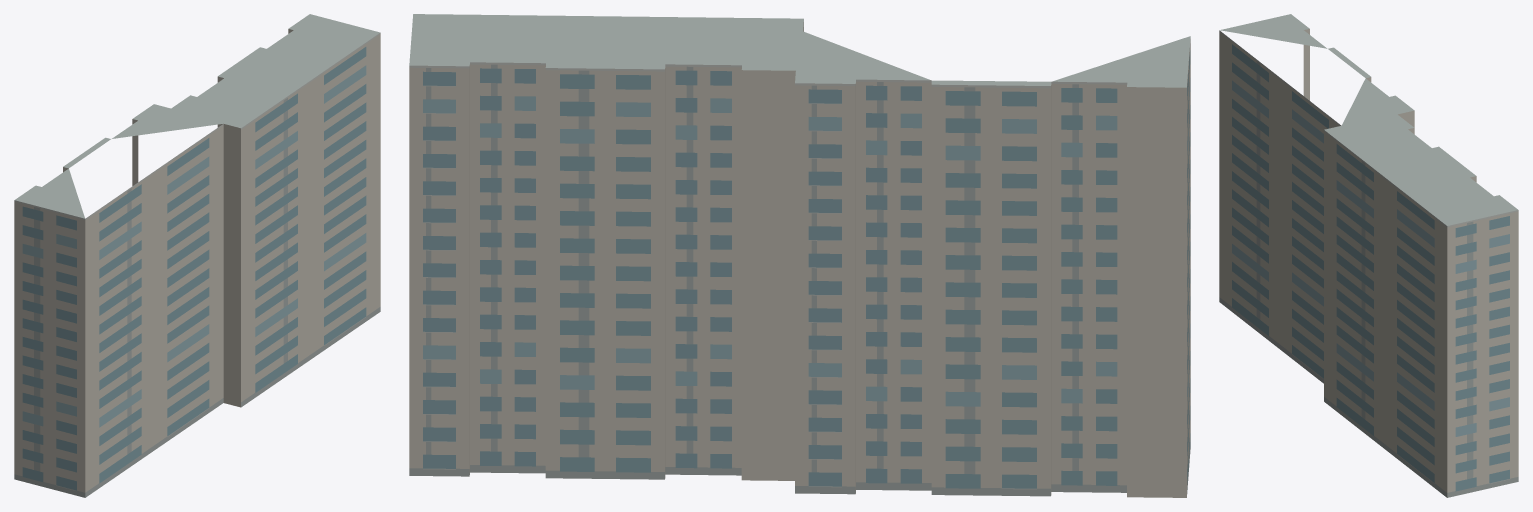
Rendered from survey-upis-32993892.glb.
3 renders of one model, left to right at view 1: azimuth 30°, elevation 25°; view 2: azimuth 150°, elevation 25°; view 3: azimuth 270°, elevation 25°, orthographic. The views are drawn at different scales.
Parts seen in each view (by area): view 1: survey-upis-32993892.tmp; view 2: survey-upis-32993892.tmp; view 3: survey-upis-32993892.tmp.
Part boxes in pixels (left/top/right/bottom): survey-upis-32993892.tmp: left=14, top=14, right=380, bottom=497; survey-upis-32993892.tmp: left=409, top=14, right=1190, bottom=497; survey-upis-32993892.tmp: left=1219, top=14, right=1518, bottom=497.
Size of the model in its own units: 76.54 by 45.75 by 45.63.
